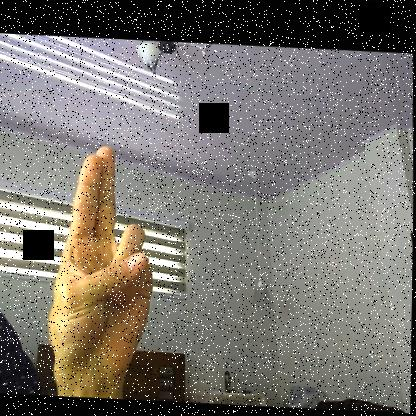U: (45, 141, 157, 390)
